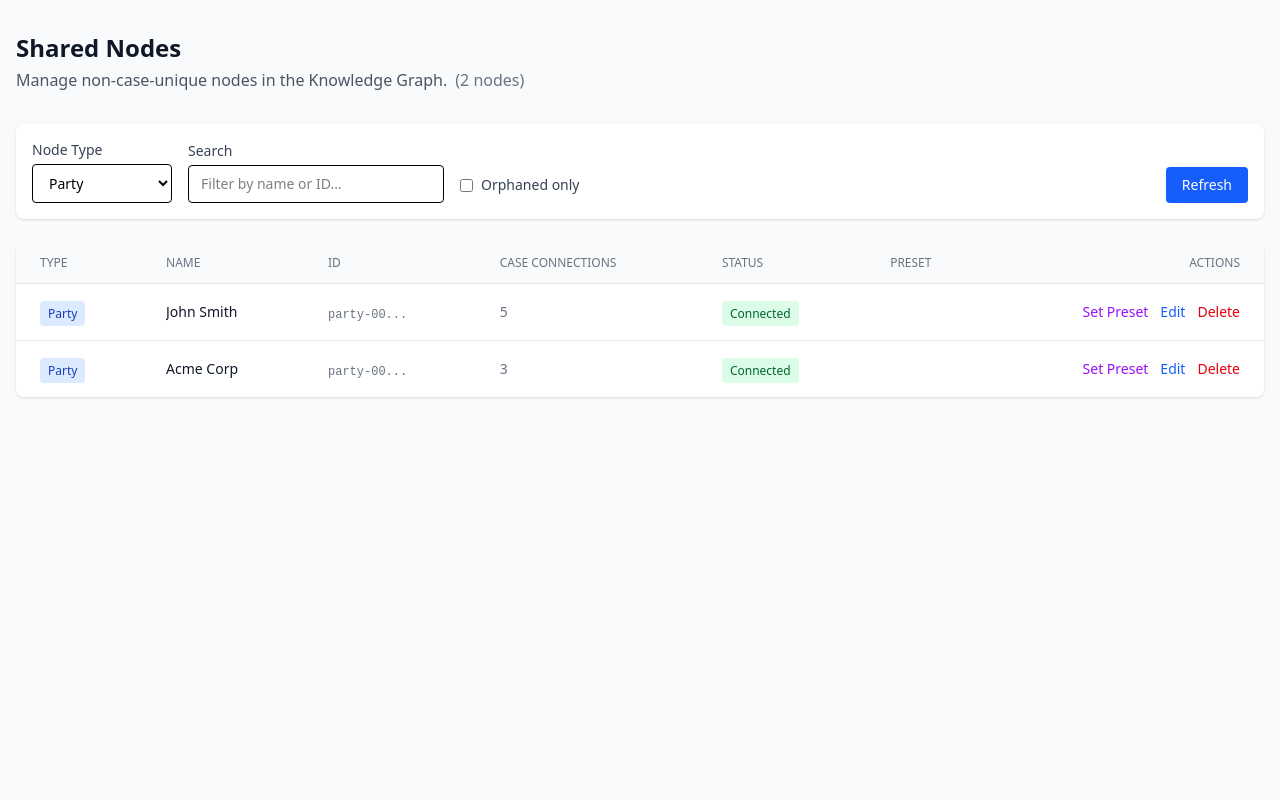
SharedNodesPage › Edit Modal › opens edit modal when Edit button is clicked
The width and height of the screenshot is (1280, 800).
Check: the text "John Smith" is shown, box top-left (166, 302), bottom-right (237, 321)
Click the button "Edit" in the row of "John Smith". click: (1173, 312)
box: top-left (1160, 302), bottom-right (1186, 322)
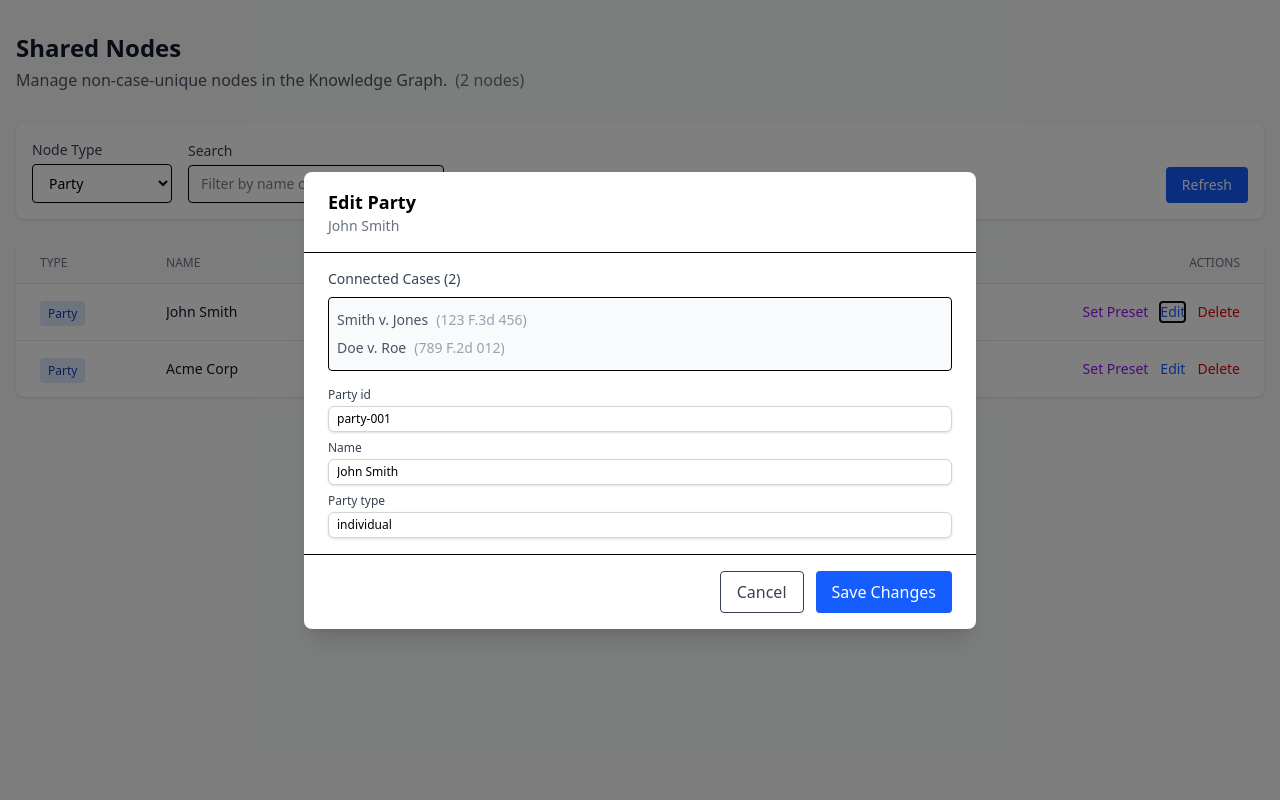
Check: the heading "Edit Party" is shown, box top-left (328, 190), bottom-right (416, 214)
